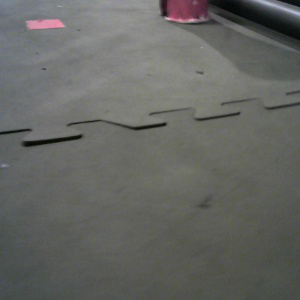right: (158, 1, 212, 23)
